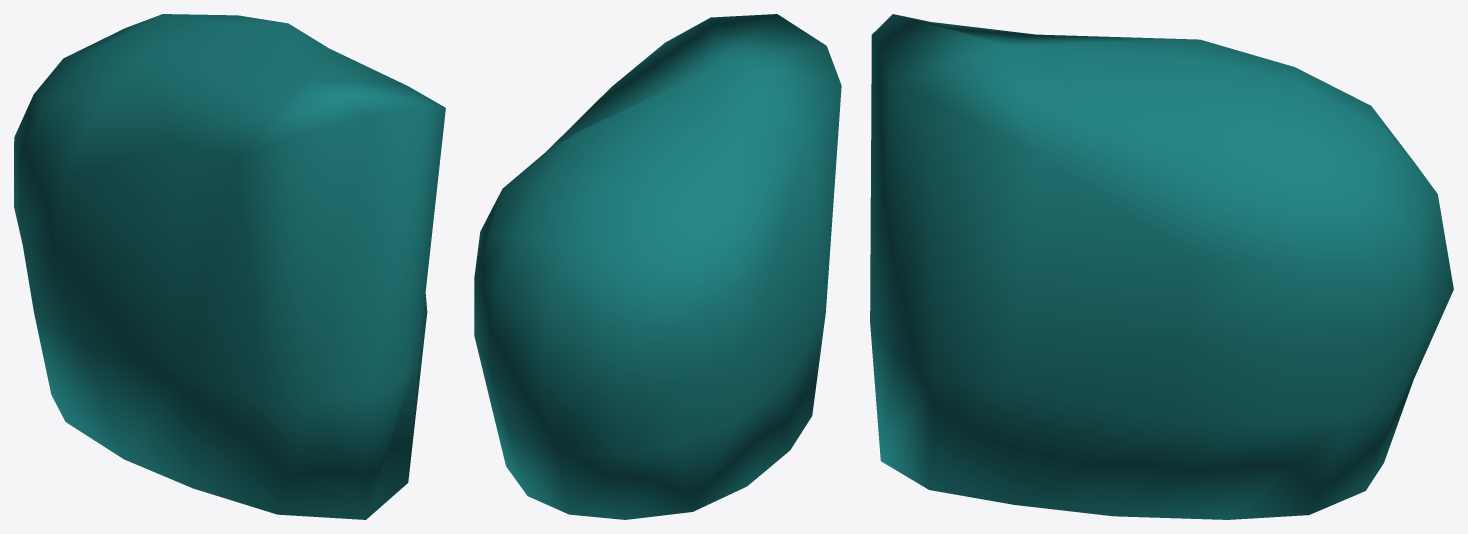
File: motocross_helmet_collider.fbx
3 views of the same model, side by side, from view 1: azimuth 30°, elevation 25°; view 2: azimuth 150°, elevation 25°; view 3: azimuth 270°, elevation 25° (orthographic). The views are drawn at different scales.
Visible parts, largest first — view 1: motocross_helmet_collider; view 2: motocross_helmet_collider; view 3: motocross_helmet_collider.
Boxes of the visible parts, x1=… form: motocross_helmet_collider: x1=14, y1=14, x2=445, y2=519; motocross_helmet_collider: x1=474, y1=14, x2=841, y2=519; motocross_helmet_collider: x1=870, y1=14, x2=1453, y2=519.
Size of the model in its own units: 32.76 by 37.66 by 46.53.
